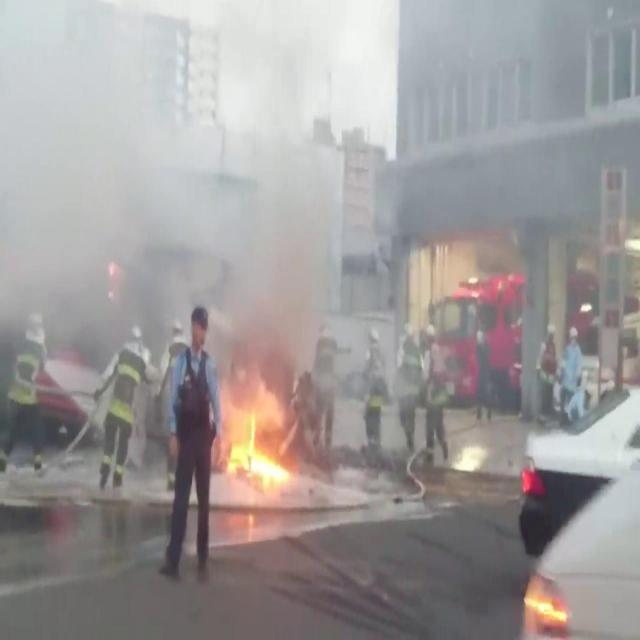fire: (213, 392, 304, 495)
